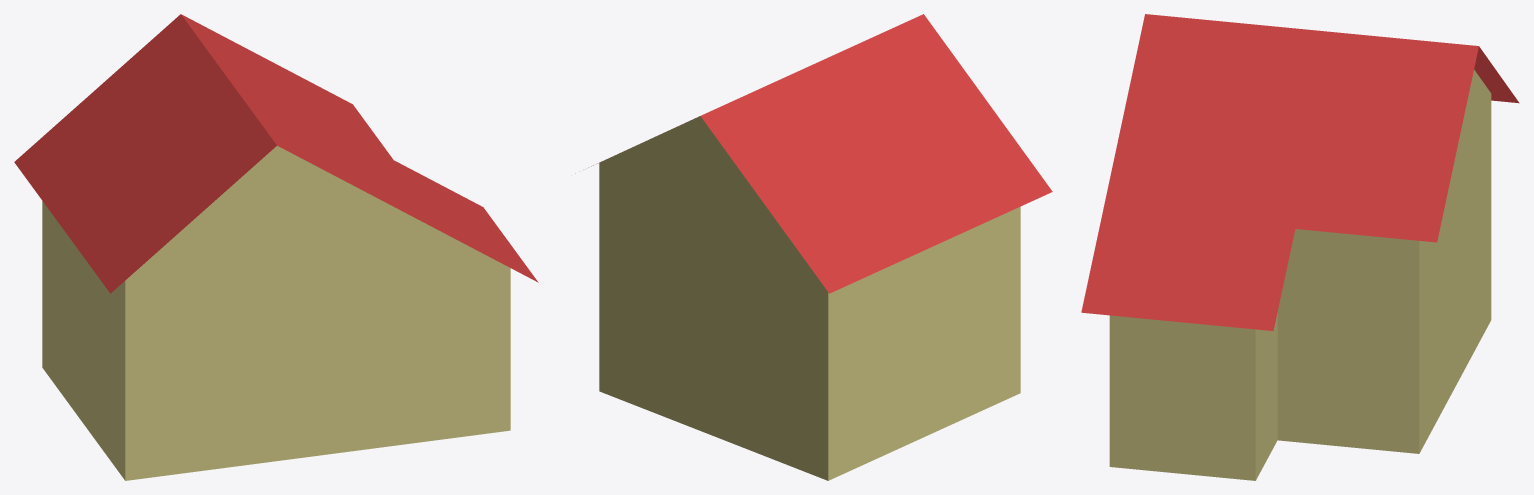
The picture shows the model from 3 angles, left to right: view 1: azimuth 30°, elevation 25°; view 2: azimuth 150°, elevation 25°; view 3: azimuth 270°, elevation 25°; orthographic projection. The views are drawn at different scales.
Bounding box in the file's own units: 15.96 × 13.91 × 11.97.
